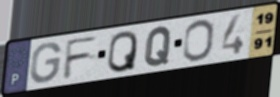4: (220, 12, 245, 57)
F: (61, 34, 100, 82)
G: (28, 40, 63, 84)
O: (181, 18, 215, 62)
Q: (105, 29, 139, 74), (143, 25, 174, 68)
